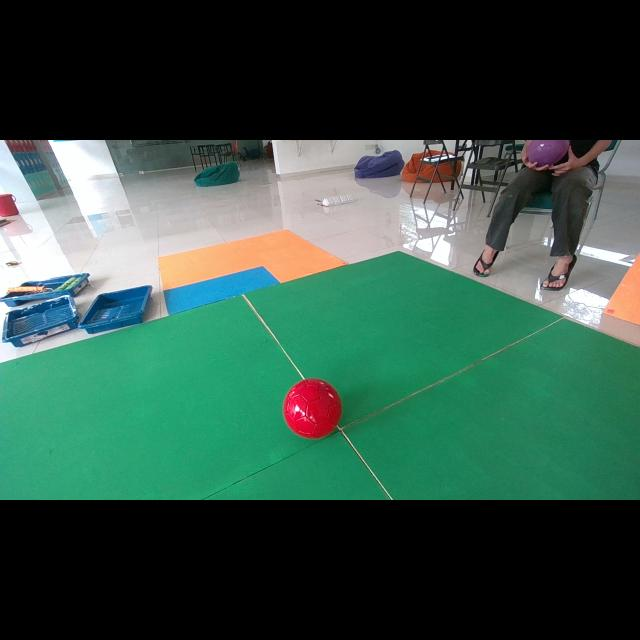P: (528, 140, 570, 168)
R: (282, 379, 342, 439)
